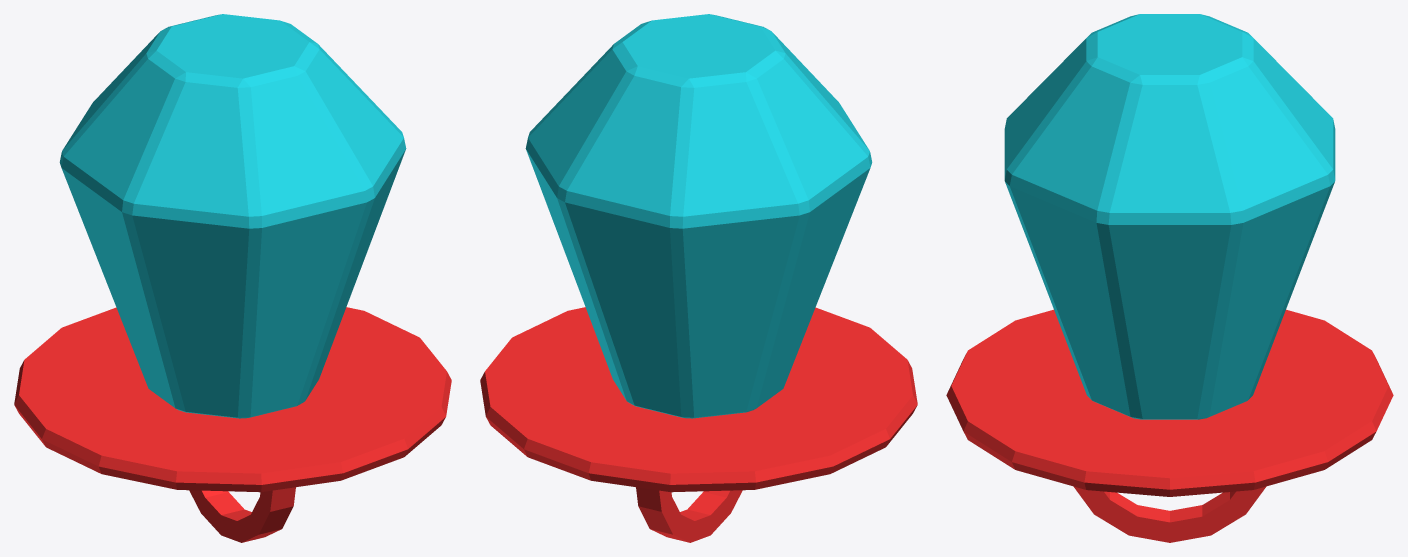
File: 290_Ring Pop.obj
The picture shows the model from 3 angles, left to right: view 1: azimuth 30°, elevation 25°; view 2: azimuth 150°, elevation 25°; view 3: azimuth 270°, elevation 25°; orthographic projection.
Parts seen in each view (by area): view 1: Ring_Pop; view 2: Ring_Pop; view 3: Ring_Pop.
Boxes of the visible parts, x1,y1,x2,y2 form: Ring_Pop: (14, 14, 451, 542); Ring_Pop: (480, 14, 917, 542); Ring_Pop: (946, 14, 1393, 542).
Size of the model in its own units: 25.92 by 31.5 by 25.92.
Materials: 1 (1 with a texture image).
